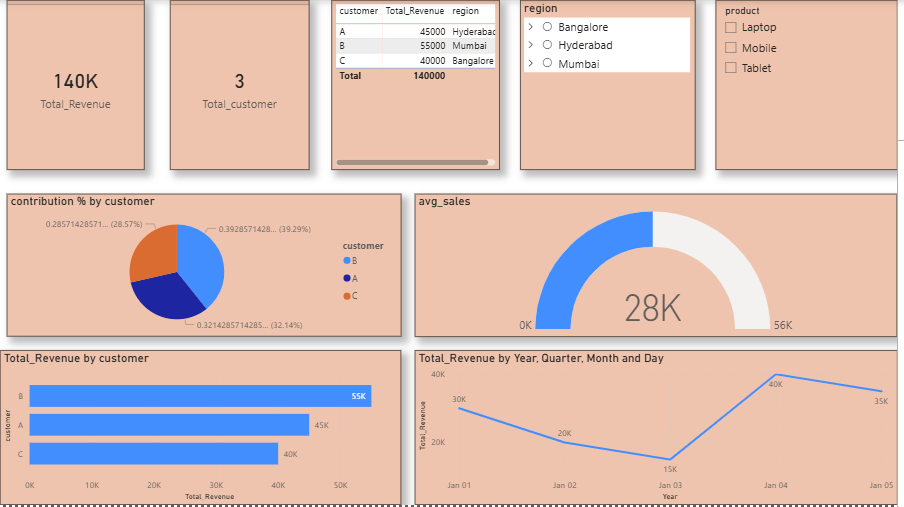

The page's visual inventory and layout, read from the dashboard file:
{"tool":"powerbi","page":{"name":"Page 1","canvas":[1280,720],"ordinal":0},"visuals":[{"type":"card","fields":{"Values":["sales.Total_Revenue"]},"box":[9.7,0,196.5,242.6],"z":0},{"type":"card","fields":{"Values":["sales.Total_customer"]},"box":[242.6,0,198.9,242.6],"z":1000},{"type":"barChart","fields":{"Category":["sales.customer"],"Y":["sales.Total_Revenue"]},"box":[0,499.7,572.5,220.8],"z":2000},{"type":"lineChart","fields":{"Y":["sales.Total_Revenue"],"Category":["sales.order_date.Variation.Date Hierarchy.Year","sales.order_date.Variation.Date Hierarchy.Quarter","sales.order_date.Variation.Date Hierarchy.Month","sales.order_date.Variation.Date Hierarchy.Day"]},"box":[591.9,499.7,689,220.8],"z":3000},{"type":"pieChart","fields":{"Y":["sales.contribution %"],"Category":["sales.customer"]},"box":[9.7,276.6,562.8,203.8],"z":4000},{"type":"tableEx","fields":{"Values":["sales.customer","sales.Total_Revenue","sales.region"]},"box":[473,0,240.2,242.6],"z":4001},{"type":"listSlicer","fields":{"Values":["sales.region","sales.order_date.Variation.Date Hierarchy.Year","sales.order_date.Variation.Date Hierarchy.Quarter","sales.order_date.Variation.Date Hierarchy.Month","sales.order_date.Variation.Date Hierarchy.Day"]},"box":[742.3,0,249.9,242.6],"z":4002},{"type":"slicer","fields":{"Values":["sales.product"]},"box":[1021.3,0,259.6,242.6],"z":4003},{"type":"gauge","fields":{"Y":["sales.avg_sales"]},"box":[592,277,688,204],"z":4004}]}

Visuals, with their boxes in screenshot pixels (x1, y1, x2, y2), scaled from the page's 1280x720 canvas onto the 904x507 screenshot:
card - sales.Total_Revenue: (7, 0, 146, 171)
card - sales.Total_customer: (171, 0, 312, 171)
barChart - sales.customer x sales.Total_Revenue: (0, 352, 404, 506)
lineChart - sales.Total_Revenue x sales.order_date.Variation.Date Hierarchy.Year: (418, 352, 903, 506)
pieChart - sales.contribution % x sales.customer: (7, 195, 404, 338)
tableEx - sales.customer x sales.Total_Revenue: (334, 0, 504, 171)
listSlicer - sales.region x sales.order_date.Variation.Date Hierarchy.Year: (524, 0, 701, 171)
slicer - sales.product: (721, 0, 903, 171)
gauge - sales.avg_sales: (418, 195, 903, 339)
